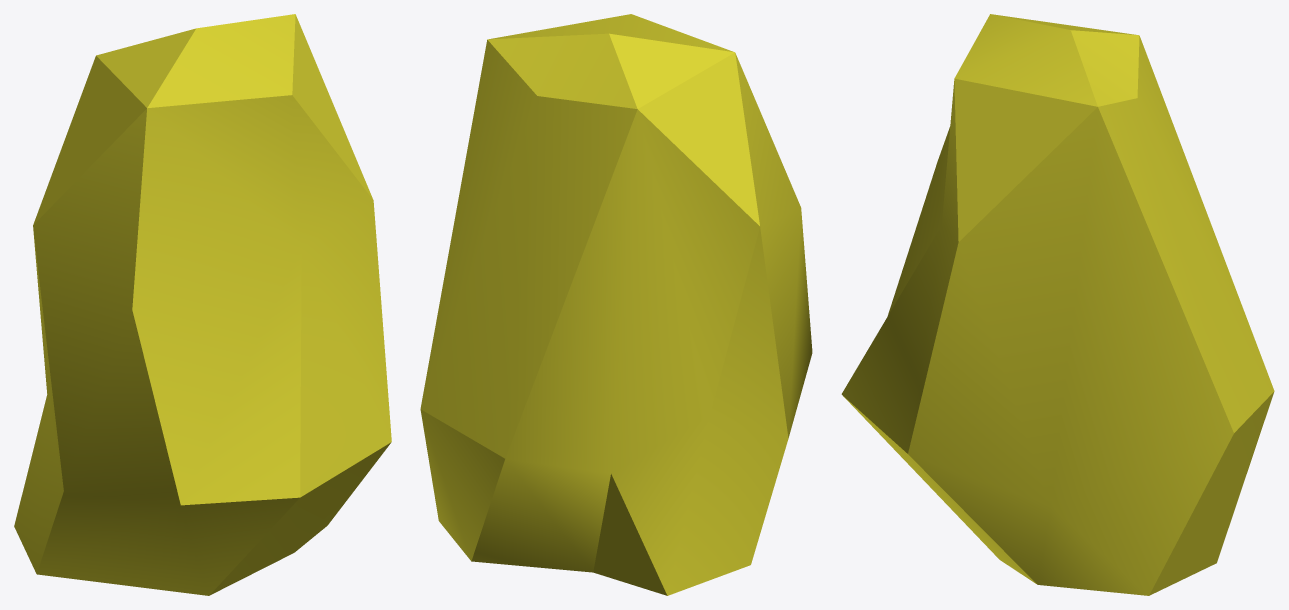
Rendered from Plant_11.fbx.
The picture shows the model from 3 angles, left to right: view 1: azimuth 30°, elevation 25°; view 2: azimuth 150°, elevation 25°; view 3: azimuth 270°, elevation 25°; orthographic projection. The views are drawn at different scales.
Visible parts, largest first — view 1: Plant_11; view 2: Plant_11; view 3: Plant_11.
Part boxes in pixels (<box>): Plant_11: <box>14,14,391,595</box>; Plant_11: <box>420,14,812,595</box>; Plant_11: <box>841,14,1274,595</box>.
Size of the model in its own units: 35.01 by 57.14 by 44.83.
